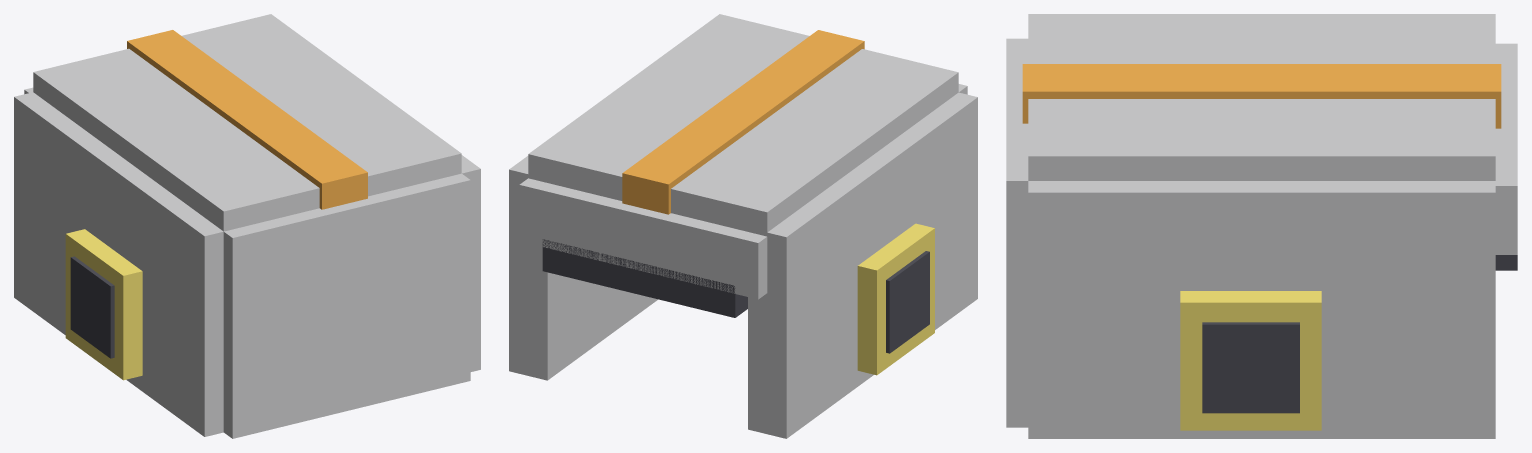
Rendered from capacete_mecanico.glb.
3 views of the same model, side by side, from view 1: azimuth 30°, elevation 25°; view 2: azimuth 150°, elevation 25°; view 3: azimuth 270°, elevation 25° (orthographic). The views are drawn at different scales.
Parts seen in each view (by area): view 1: capacete_mecanico; view 2: capacete_mecanico; view 3: capacete_mecanico.
Boxes of the visible parts, <box> form: capacete_mecanico: <box>14,14,480,438</box>; capacete_mecanico: <box>509,14,977,438</box>; capacete_mecanico: <box>1006,14,1517,438</box>.
Bounding box in the file's own units: 0.84 × 0.565 × 0.94.
